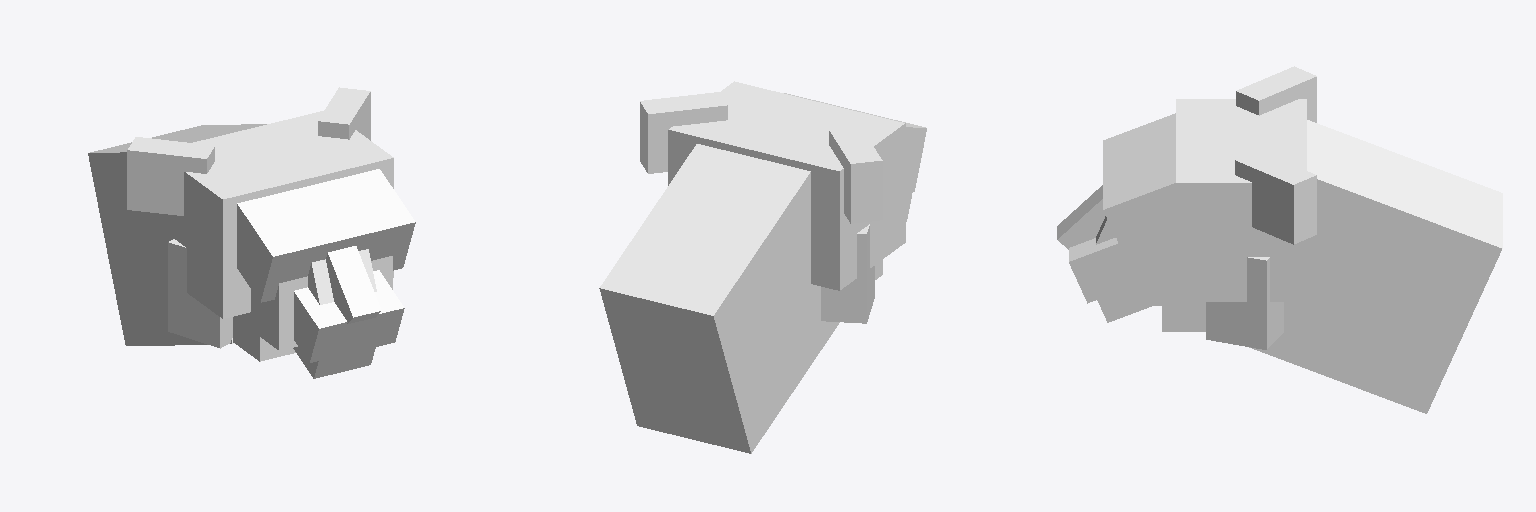
Rendered from cheetah_head.obj.
3 renders of one model, left to right at view 1: azimuth 30°, elevation 25°; view 2: azimuth 150°, elevation 25°; view 3: azimuth 270°, elevation 25°, orthographic.
Visible parts, largest first — view 1: Element #20, Element #22, Element #25, Element #30, Element #4, Element #32, Element #6, Element #1, Element #3, Element #29, Element #7, Element #5; view 2: Element #25, Element #20, Element #3, Element #4, Element #32, Element #22; view 3: Element #25, Element #20, Element #22, Element #3, Element #31, Element #6, Element #4, Element #30, Element #1, Element #7, Element #29.
Boxes of the visible parts, x1=… form: Element #20: x1=157, y1=111, x2=393, y2=318; Element #22: x1=237, y1=169, x2=415, y2=302; Element #25: x1=88, y1=124, x2=266, y2=345; Element #30: x1=294, y1=270, x2=404, y2=362; Element #4: x1=127, y1=137, x2=214, y2=215; Element #32: x1=168, y1=239, x2=232, y2=348; Element #6: x1=246, y1=256, x2=392, y2=350; Element #1: x1=326, y1=246, x2=381, y2=323; Element #3: x1=318, y1=87, x2=370, y2=140; Element #29: x1=293, y1=347, x2=375, y2=378; Element #7: x1=233, y1=314, x2=295, y2=361; Element #5: x1=308, y1=249, x2=376, y2=304; Element #25: x1=599, y1=144, x2=839, y2=453; Element #20: x1=668, y1=81, x2=905, y2=290; Element #3: x1=640, y1=92, x2=727, y2=173; Element #4: x1=829, y1=127, x2=882, y2=223; Element #32: x1=821, y1=224, x2=874, y2=323; Element #22: x1=784, y1=93, x2=926, y2=191; Element #25: x1=1249, y1=120, x2=1502, y2=413; Element #20: x1=1176, y1=99, x2=1306, y2=301; Element #22: x1=1103, y1=113, x2=1175, y2=264; Element #3: x1=1235, y1=151, x2=1316, y2=244; Element #31: x1=1206, y1=257, x2=1283, y2=349; Element #6: x1=1120, y1=247, x2=1185, y2=305; Element #4: x1=1236, y1=66, x2=1316, y2=122; Element #30: x1=1069, y1=238, x2=1119, y2=303; Element #1: x1=1057, y1=185, x2=1105, y2=249; Element #7: x1=1162, y1=302, x2=1205, y2=331; Element #29: x1=1097, y1=292, x2=1151, y2=322.
Bounding box in the file's own units: 8.52 × 8.72 × 13.51.